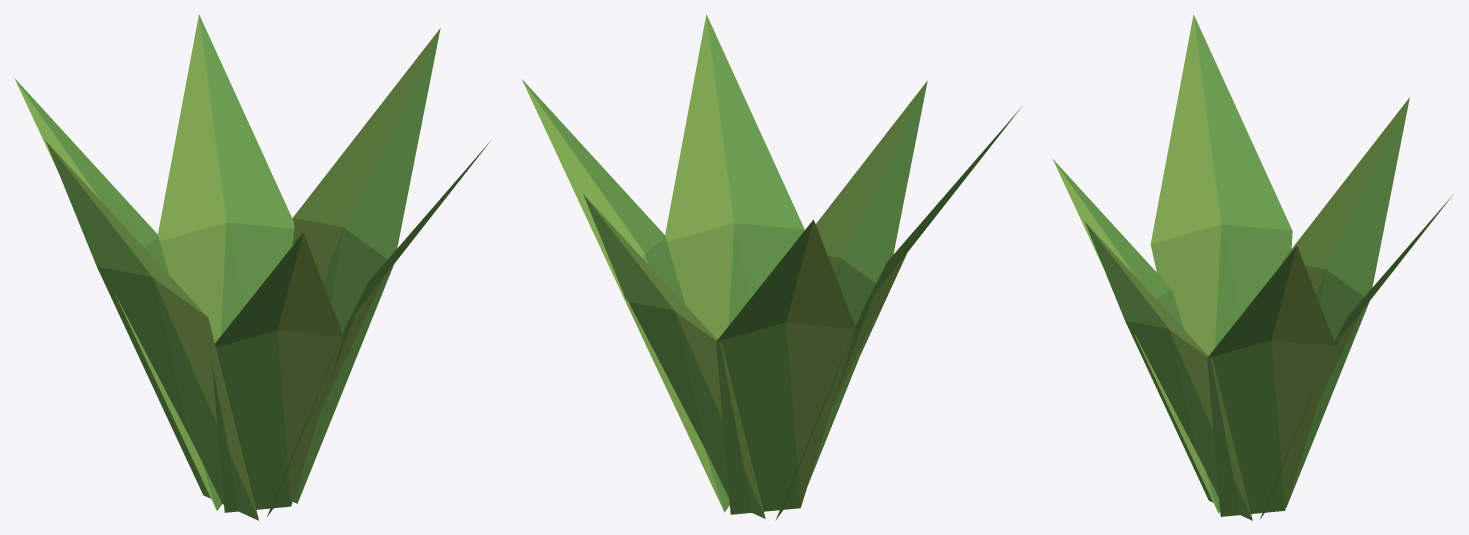
File: grass_tuft_medium_01.glb
3 renders of one model, left to right at view 1: azimuth 30°, elevation 25°; view 2: azimuth 150°, elevation 25°; view 3: azimuth 270°, elevation 25°, orthographic. The views are drawn at different scales.
Parts seen in each view (by area): view 1: grass_tuft_medium_01; view 2: grass_tuft_medium_01; view 3: grass_tuft_medium_01.
Part boxes in pixels (x1,y1,x2,y2): grass_tuft_medium_01: (14,14,490,520); grass_tuft_medium_01: (522,14,1021,520); grass_tuft_medium_01: (1053,14,1452,520).
Bounding box in the file's own units: 0.2469 × 0.2288 × 0.2151.
